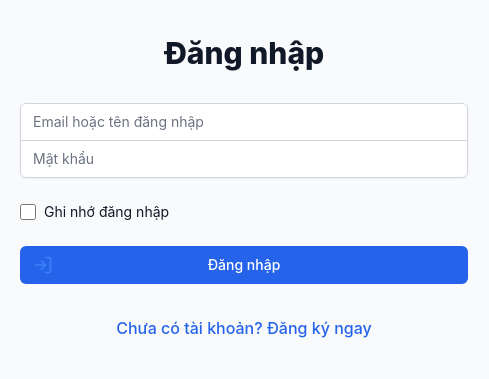
it: Login › should show validation errors for empty fields
This screenshot has width=489, height=379.
// Submit form without entering data
Click the button "Đăng nhập": (244, 265) [20, 246, 468, 284]
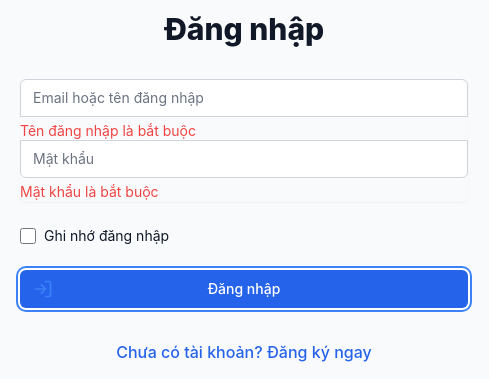
Expected: the text "Tên đăng nhập là bắt buộc" is shown, [20, 122, 196, 138]
Expected: the text "Mật khẩu là bắt buộc" is shown, [20, 182, 159, 200]
